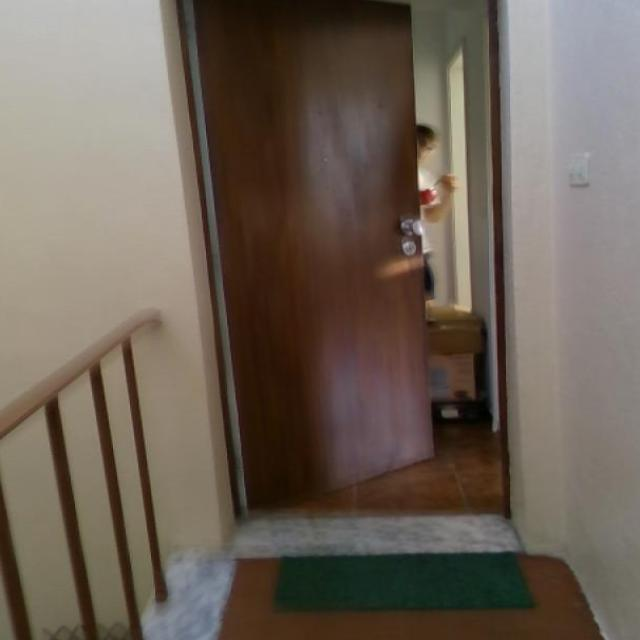door: (178, 0, 437, 512)
